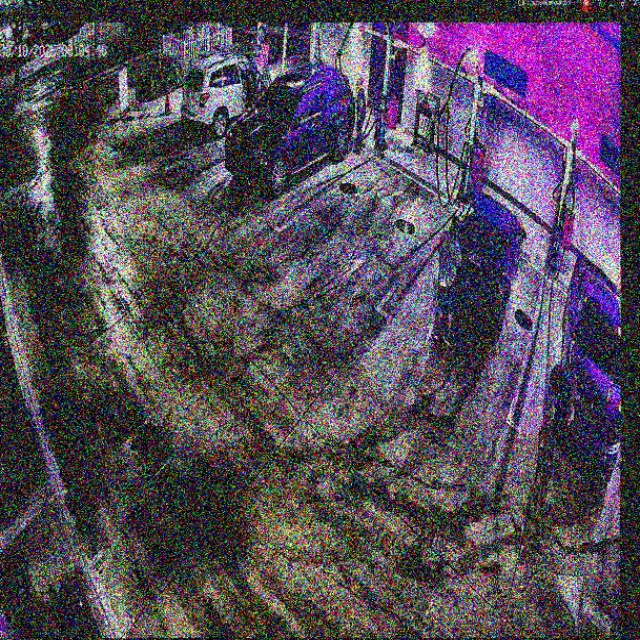Car: (223, 61, 355, 195), (442, 191, 524, 340)
